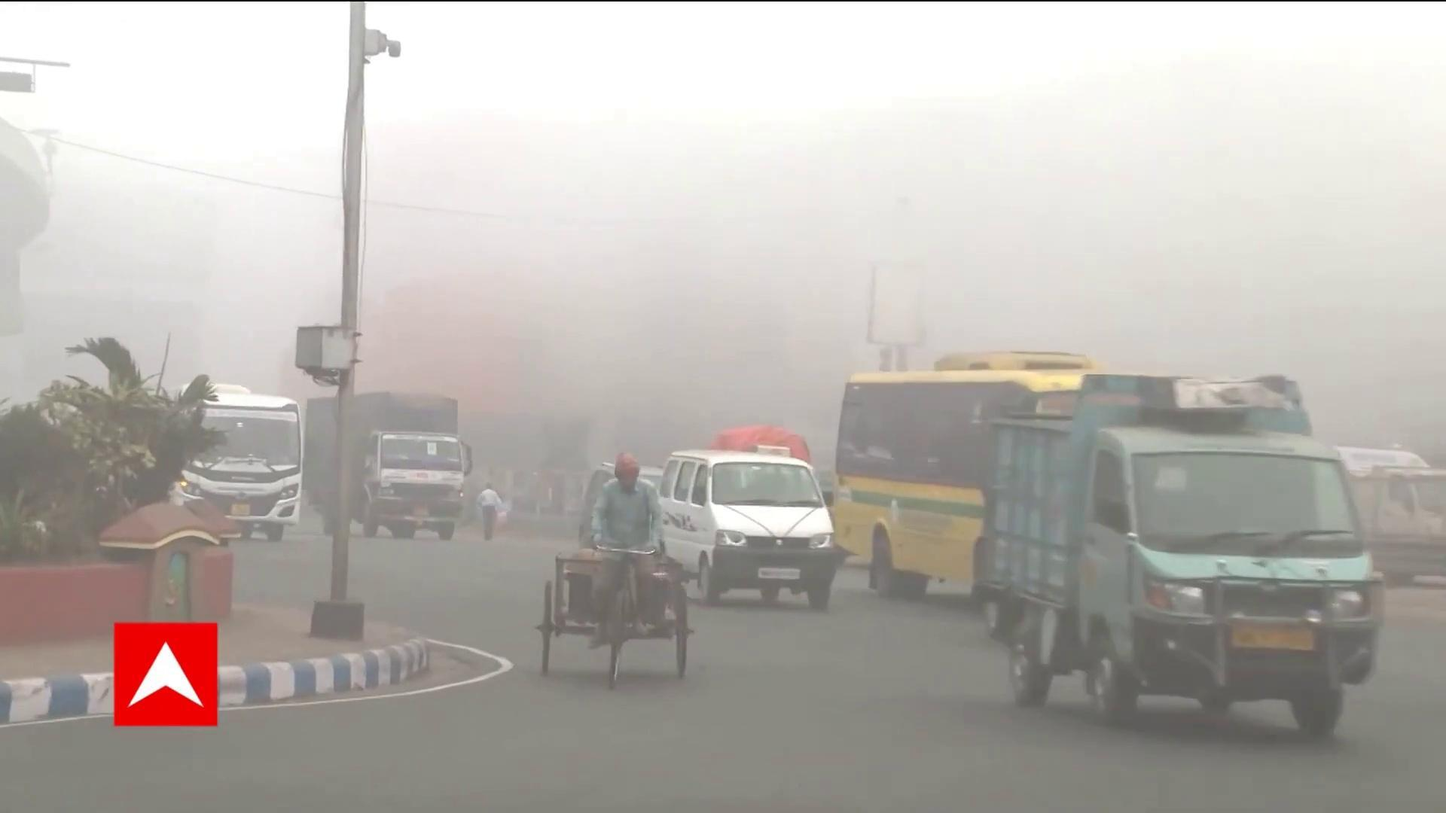Bus: (838, 366, 1258, 595)
Car: (654, 444, 839, 621)
Truck: (984, 383, 1386, 742), (309, 387, 476, 554), (177, 377, 309, 546)
